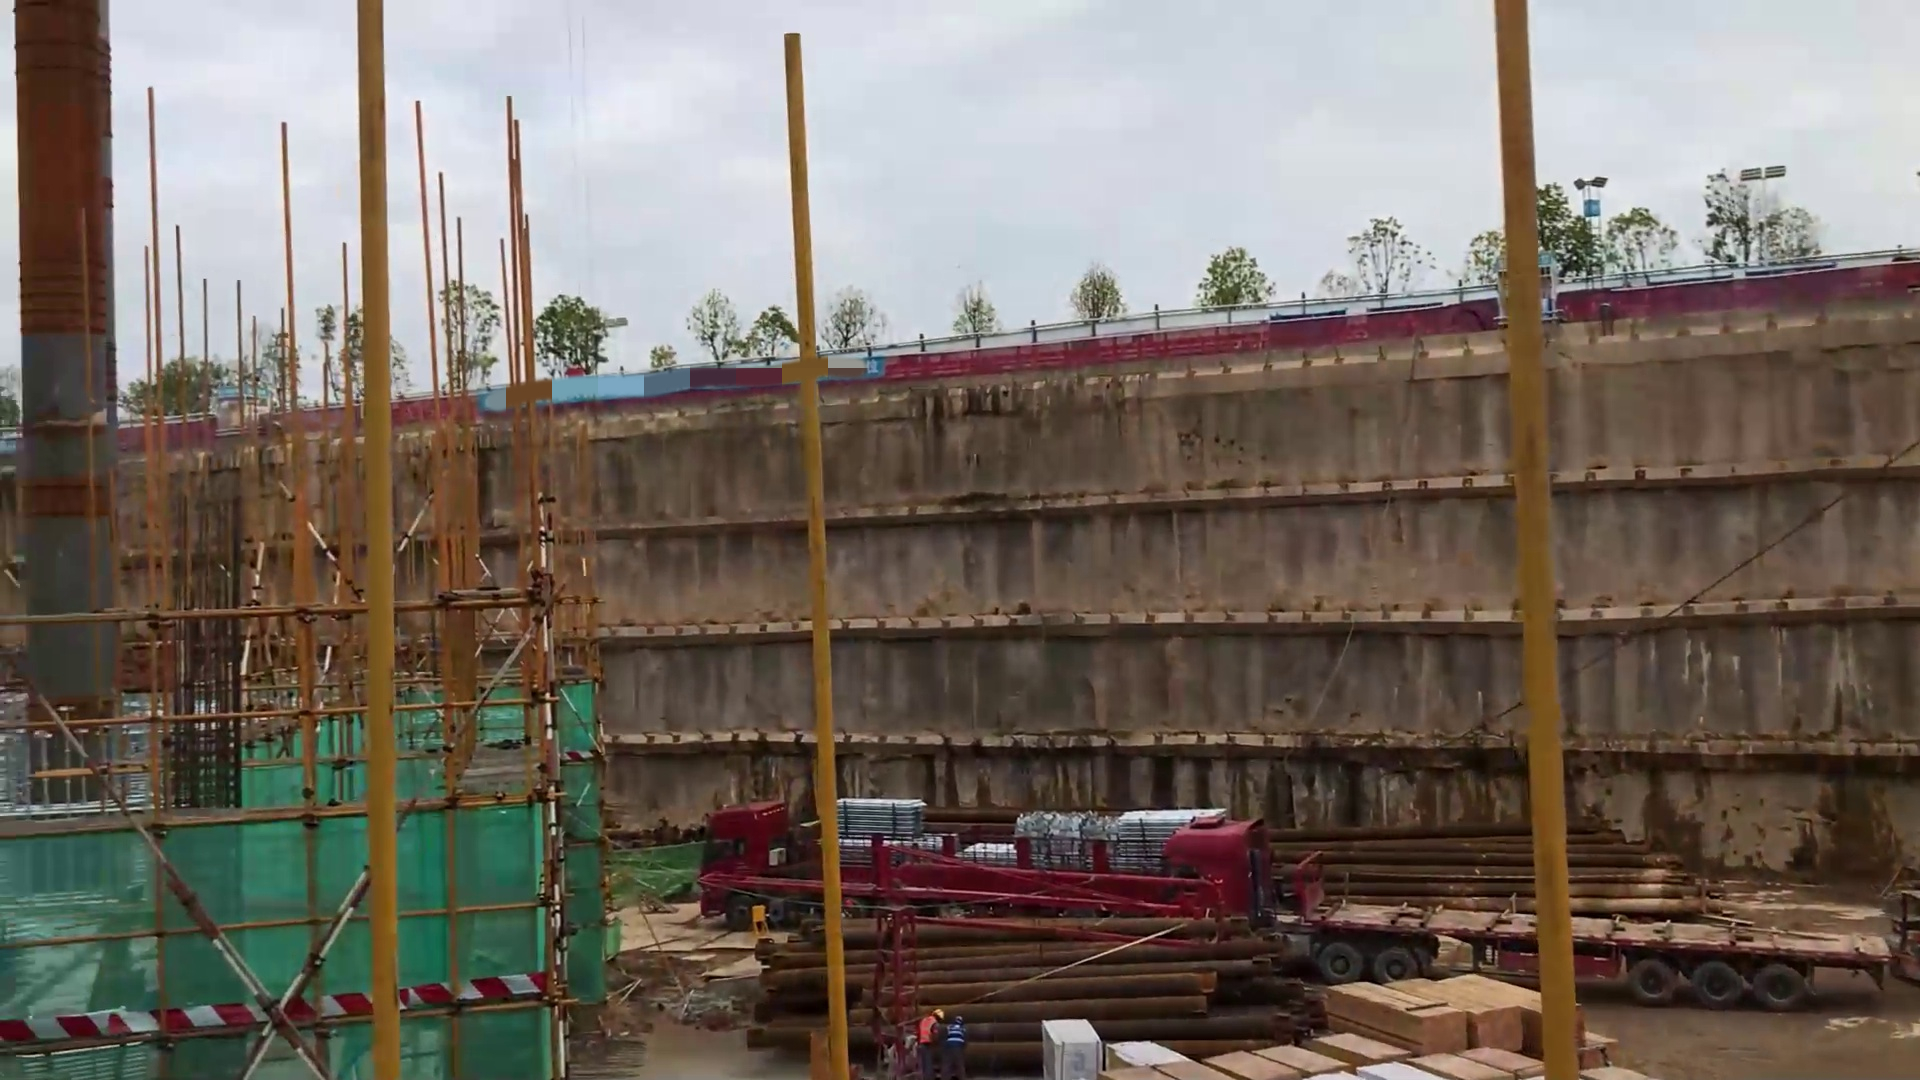person: (918, 1005, 945, 1080), (945, 1013, 974, 1080)
scaffold: (839, 796, 926, 845), (1116, 803, 1163, 875)
vest: (949, 1026, 971, 1057), (921, 1014, 938, 1049)
wood: (1325, 971, 1582, 1065)
